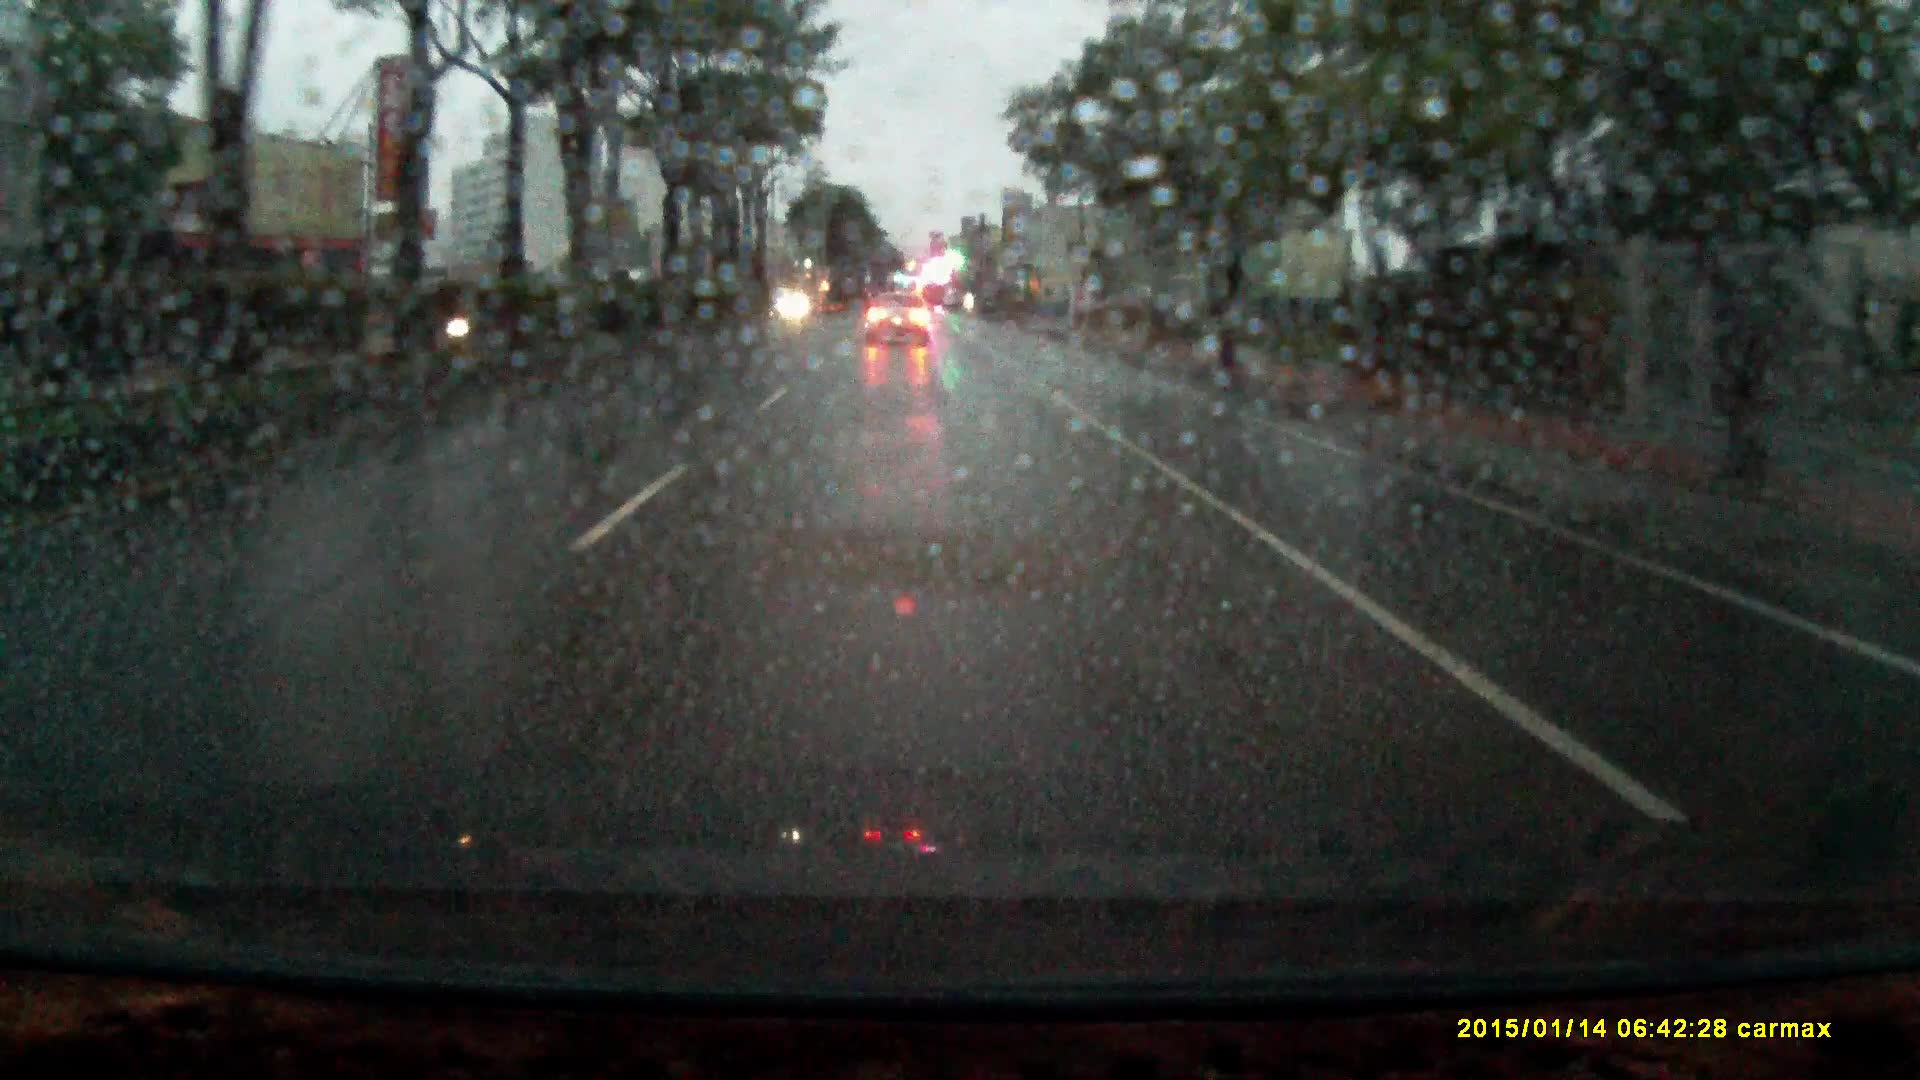vehicle: (864, 299, 934, 357)
